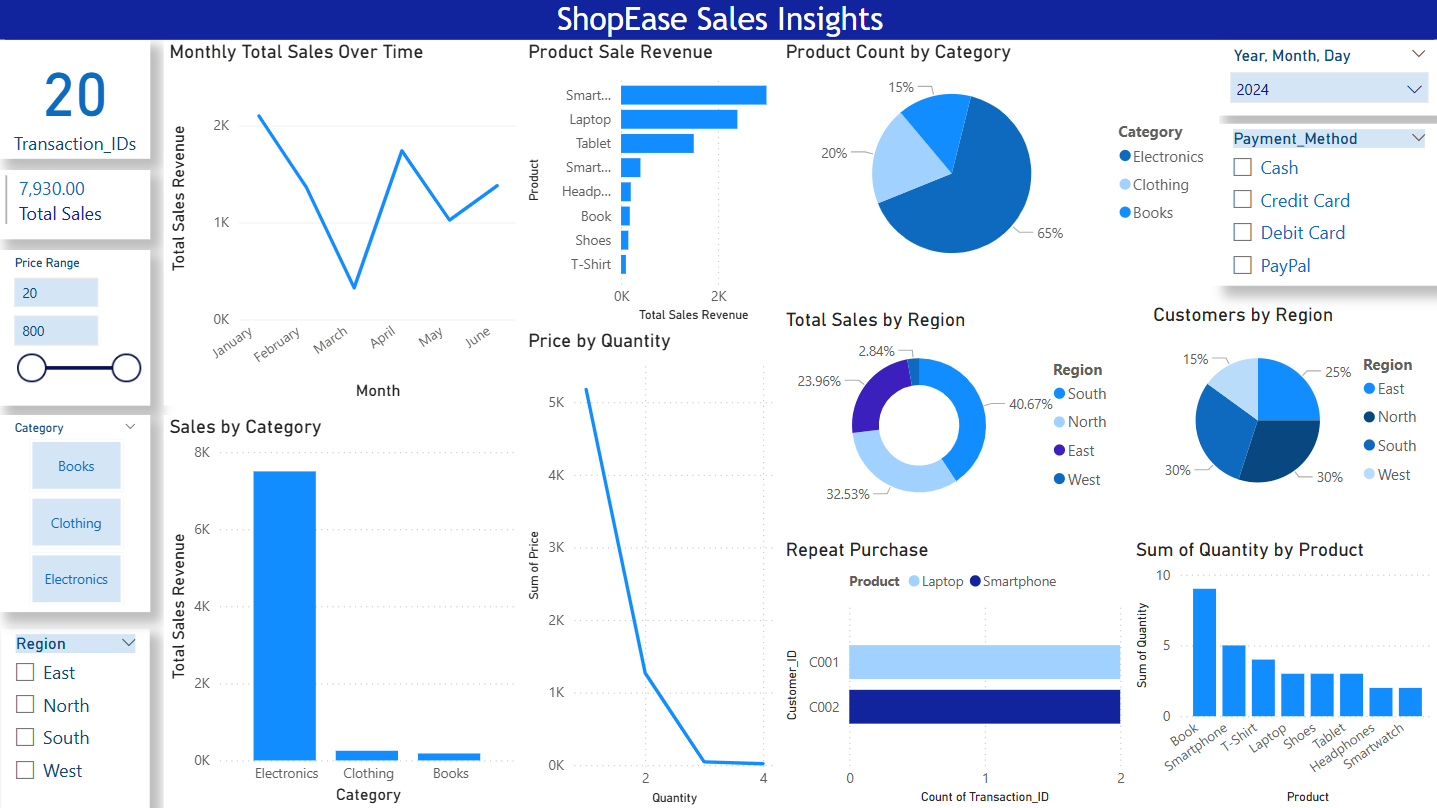

The dashboard page shown, as its layout file describes it:
{"tool":"powerbi","page":{"name":"Page 1","canvas":[1280,720],"ordinal":0},"visuals":[{"type":"textbox","title":"ShopEase Sales Insights","box":[0,0,1280,35.6],"z":0},{"type":"card","fields":{"Values":["CountNonNull(Sheet1.Transaction_ID)"]},"box":[0,36,133.7,105.8],"z":1},{"type":"multiRowCard","fields":{"Values":["Sum(Sheet1.Total_Amount)"]},"box":[0,151.2,133.7,61.6],"z":2},{"type":"slicer","fields":{"Values":["Sheet1.Price"]},"box":[0,222.1,133.7,138.4],"z":3},{"type":"slicer","fields":{"Values":["Sheet1.Region"]},"box":[1.1,558.9,132.2,161.1],"z":4},{"type":"slicer","fields":{"Values":["Sheet1.Category"]},"box":[0,368.9,133.3,175.6],"z":5},{"type":"lineChart","title":"Monthly Total Sales Over Time","fields":{"Category":["Sheet1.Date.Variation.Date Hierarchy.Year","Sheet1.Date.Variation.Date Hierarchy.Quarter","Sheet1.Date.Variation.Date Hierarchy.Month","Sheet1.Date.Variation.Date Hierarchy.Day"],"Y":["Sum(Sheet1.Total_Amount)"]},"box":[145.3,36,318.6,324.4],"z":6},{"type":"donutChart","title":"Total Sales by Region","fields":{"Category":["Sheet1.Region"],"Y":["Sum(Sheet1.Total_Amount)"]},"box":[693,273.3,311.6,190.7],"z":7},{"type":"barChart","title":"Repeat Purchase","fields":{"Category":["Sheet1.Customer_ID"],"Y":["CountNonNull(Sheet1.Transaction_ID)"],"Series":["Sheet1.Product"]},"box":[693,477.9,311.6,241.9],"z":8},{"type":"lineStackedColumnComboChart","title":"Sales by Category","fields":{"Category":["Sheet1.Category"],"Y":["Sum(Sheet1.Total_Amount)"]},"box":[145.6,368.9,318.9,351.1],"z":9},{"type":"pieChart","title":"Customers by Region","fields":{"Series":["Sheet1.Region"],"Y":["CountNonNull(Sheet1.Customer_ID)"]},"box":[1019.8,268.6,260.5,190.7],"z":10},{"type":"slicer","fields":{"Values":["Sheet1.Date.Variation.Date Hierarchy.Year","Sheet1.Date.Variation.Date Hierarchy.Month","Sheet1.Date.Variation.Date Hierarchy.Day"]},"box":[1083.7,36,196.5,67.4],"z":11},{"type":"slicer","title":"Payment Method for Purchase","fields":{"Values":["Sheet1.Payment_Method"]},"box":[1083.7,110.5,196.5,144.2],"z":12},{"type":"clusteredColumnChart","fields":{"Category":["Sheet1.Product"],"Y":["Sum(Sheet1.Quantity)"]},"box":[1004.7,477.9,275.6,241.9],"z":13},{"type":"lineChart","title":"Price by Quantity","fields":{"Y":["Sum(Sheet1.Price)"],"Category":["Sheet1.Quantity"]},"box":[464,291.9,229.1,427.9],"z":14},{"type":"barChart","title":"Product Sale Revenue","fields":{"Category":["Sheet1.Product"],"Y":["Sum(Sheet1.Total_Amount)"]},"box":[464,36,229.1,255.8],"z":15},{"type":"pieChart","title":"Product Count by Category","fields":{"Category":["Sheet1.Category"],"Y":["CountNonNull(Sheet1.Product)"]},"box":[693,36,390.7,218.6],"z":16}]}

Visuals, with their boxes in screenshot pixels (x1, y1, x2, y2), scaled from the page's 1280x720 canvas onto the 1437x808 screenshot:
"ShopEase Sales Insights" textbox: bbox=(0, 0, 1436, 40)
card - CountNonNull(Sheet1.Transaction_ID): bbox=(0, 40, 150, 159)
multiRowCard - Sum(Sheet1.Total_Amount): bbox=(0, 170, 150, 239)
slicer - Sheet1.Price: bbox=(0, 249, 150, 405)
slicer - Sheet1.Region: bbox=(1, 627, 150, 807)
slicer - Sheet1.Category: bbox=(0, 414, 150, 611)
"Monthly Total Sales Over Time" lineChart: bbox=(163, 40, 521, 404)
"Total Sales by Region" donutChart: bbox=(778, 307, 1128, 521)
"Repeat Purchase" barChart: bbox=(778, 536, 1128, 807)
"Sales by Category" lineStackedColumnComboChart: bbox=(163, 414, 521, 807)
"Customers by Region" pieChart: bbox=(1145, 301, 1436, 515)
slicer - Sheet1.Date.Variation.Date Hierarchy.Year x Sheet1.Date.Variation.Date Hierarchy.Month: bbox=(1217, 40, 1436, 116)
"Payment Method for Purchase" slicer: bbox=(1217, 124, 1436, 286)
clusteredColumnChart - Sheet1.Product x Sum(Sheet1.Quantity): bbox=(1128, 536, 1436, 807)
"Price by Quantity" lineChart: bbox=(521, 328, 778, 807)
"Product Sale Revenue" barChart: bbox=(521, 40, 778, 327)
"Product Count by Category" pieChart: bbox=(778, 40, 1217, 286)
